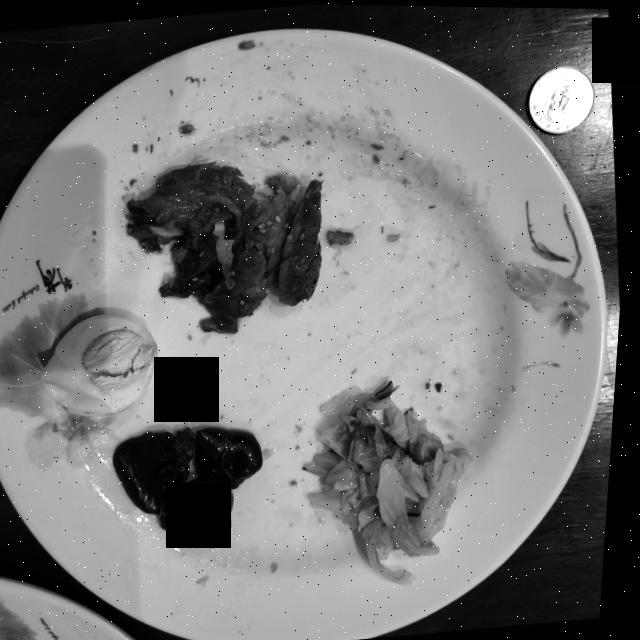Kabayaki sea bream fillet: (129, 162, 324, 332)
cabbage: (313, 381, 478, 583)
coin: (529, 64, 594, 132)
